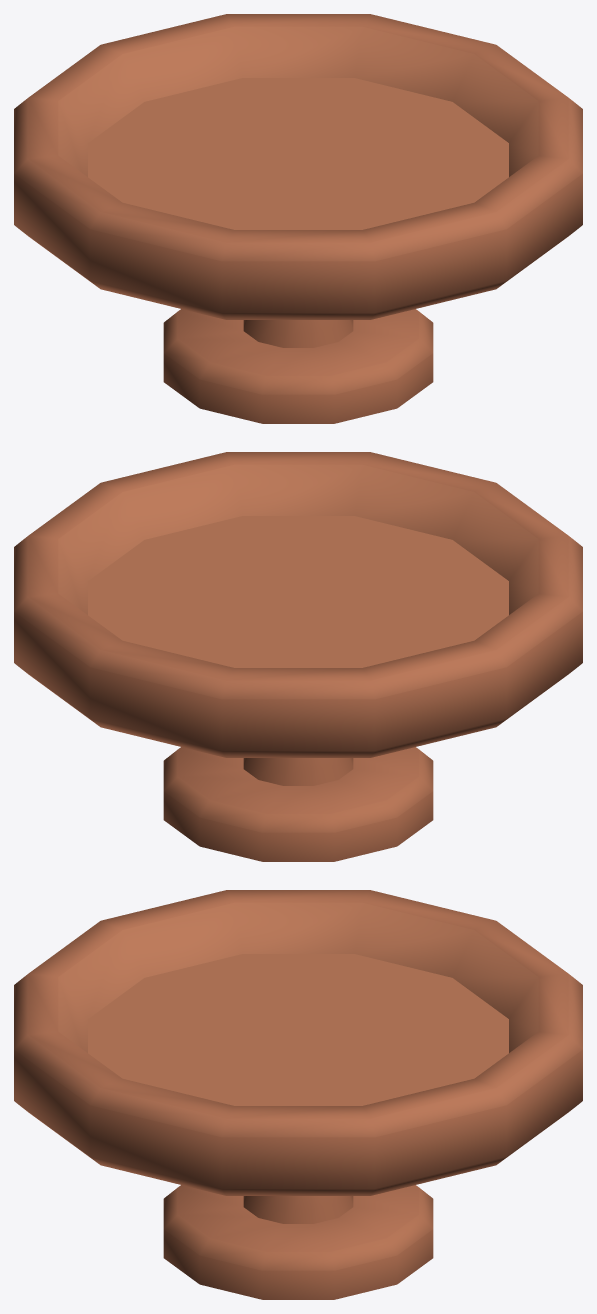
File: pastry-stand-a.glb
3 views of the same model, one above another, from view 1: azimuth 30°, elevation 25°; view 2: azimuth 150°, elevation 25°; view 3: azimuth 270°, elevation 25° (orthographic).
Parts seen in each view (by area): view 1: pastry_stand_A; view 2: pastry_stand_A; view 3: pastry_stand_A.
Boxes of the visible parts, x1,y1,x2,y2 form: pastry_stand_A: [14, 14, 582, 423]; pastry_stand_A: [14, 452, 582, 861]; pastry_stand_A: [14, 890, 582, 1299].
Bounding box in the file's own units: 0.8 × 0.37 × 0.8.
Materials: 1 (1 with a texture image).
